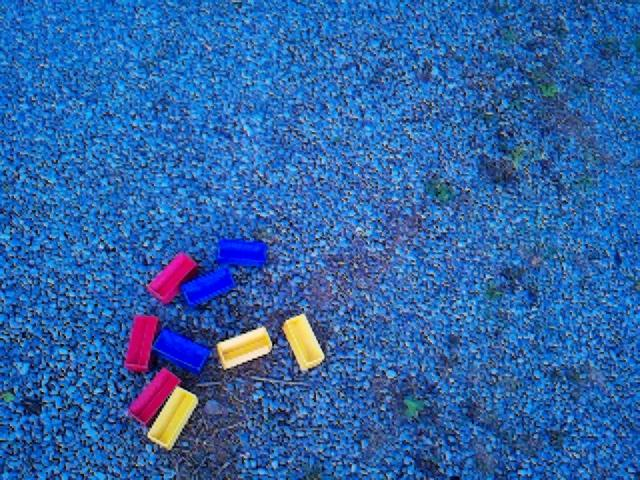blue: (152, 328, 212, 376), (181, 267, 236, 308), (216, 238, 268, 268)
red: (128, 368, 181, 426), (147, 252, 198, 305), (123, 314, 159, 373)
yellow: (147, 386, 199, 451), (282, 313, 326, 372), (216, 326, 273, 371)
